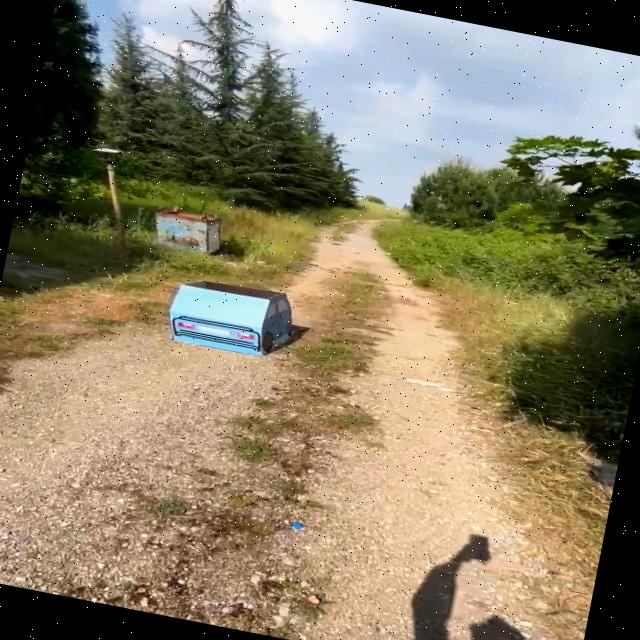blue_car: (154, 261, 319, 379)
